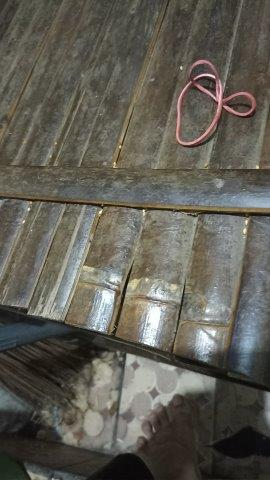karet: (176, 60, 256, 146)
